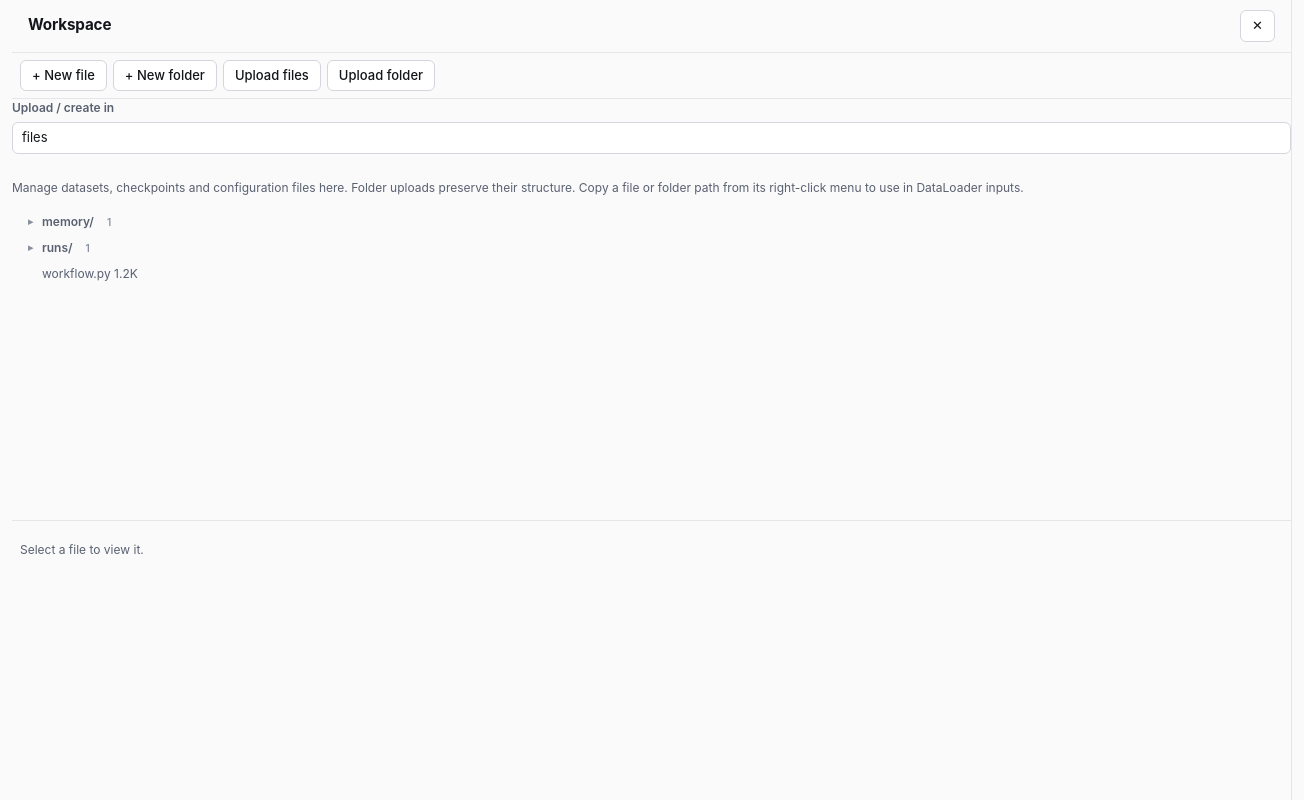
Test case: workspace right-click menu › offers what you can do with a file
Right-click the element with class "ws-file": (90, 273) [42, 266, 138, 280]
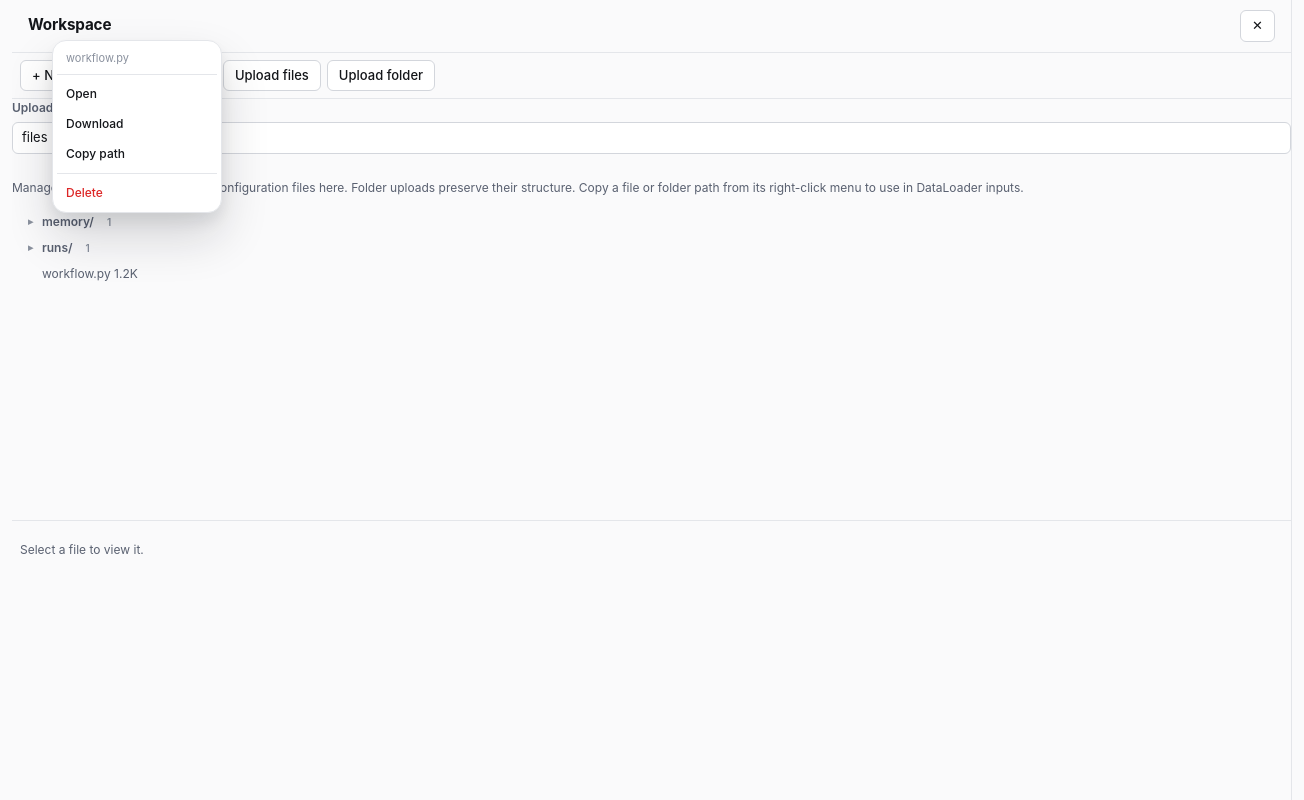
Expected: the element with class "ctx-menu" is shown, [52, 40, 222, 212]
